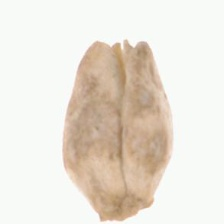L1: (91, 198, 159, 222), (91, 35, 148, 62)
L2: (61, 39, 174, 221)
